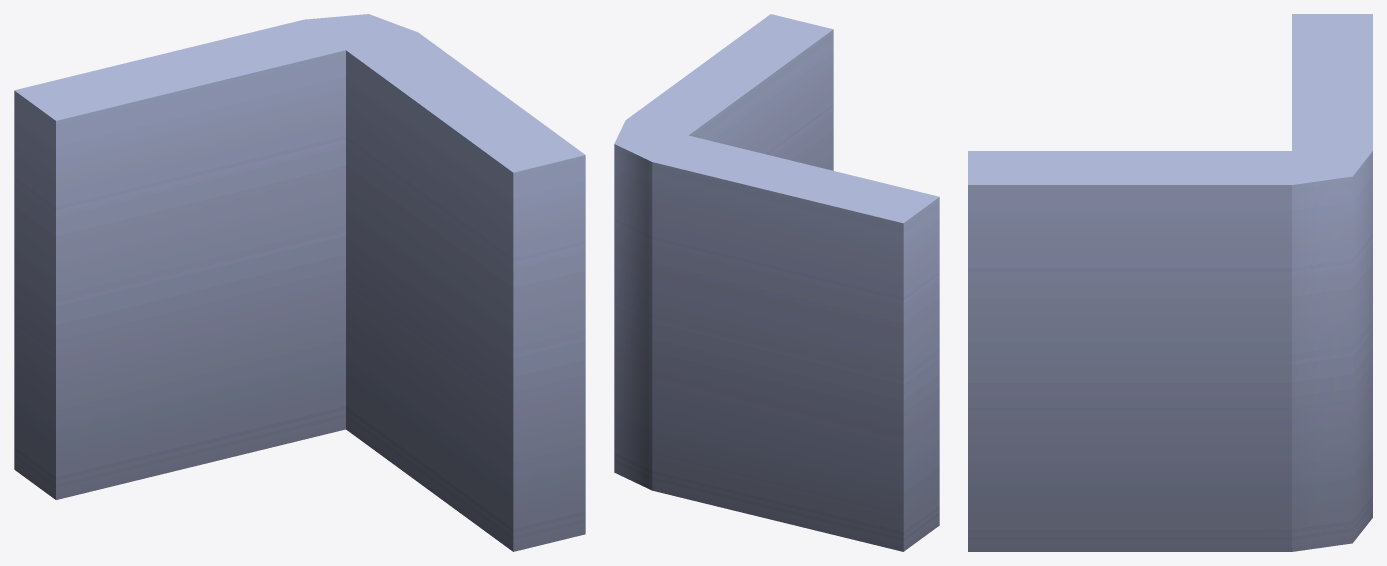
The model's file is wall-corner-rounded.glb.
3 renders of one model, left to right at view 1: azimuth 30°, elevation 25°; view 2: azimuth 150°, elevation 25°; view 3: azimuth 270°, elevation 25°, orthographic. The views are drawn at different scales.
Visible parts, largest first — view 1: wall-corner-rounded; view 2: wall-corner-rounded; view 3: wall-corner-rounded.
Boxes of the visible parts, x1,y1,x2,y2 form: wall-corner-rounded: (14,14,585,551); wall-corner-rounded: (614,14,939,551); wall-corner-rounded: (968,14,1372,551).
Size of the model in its own units: 1 by 1 by 1.
Materials: 1 (1 with a texture image).
